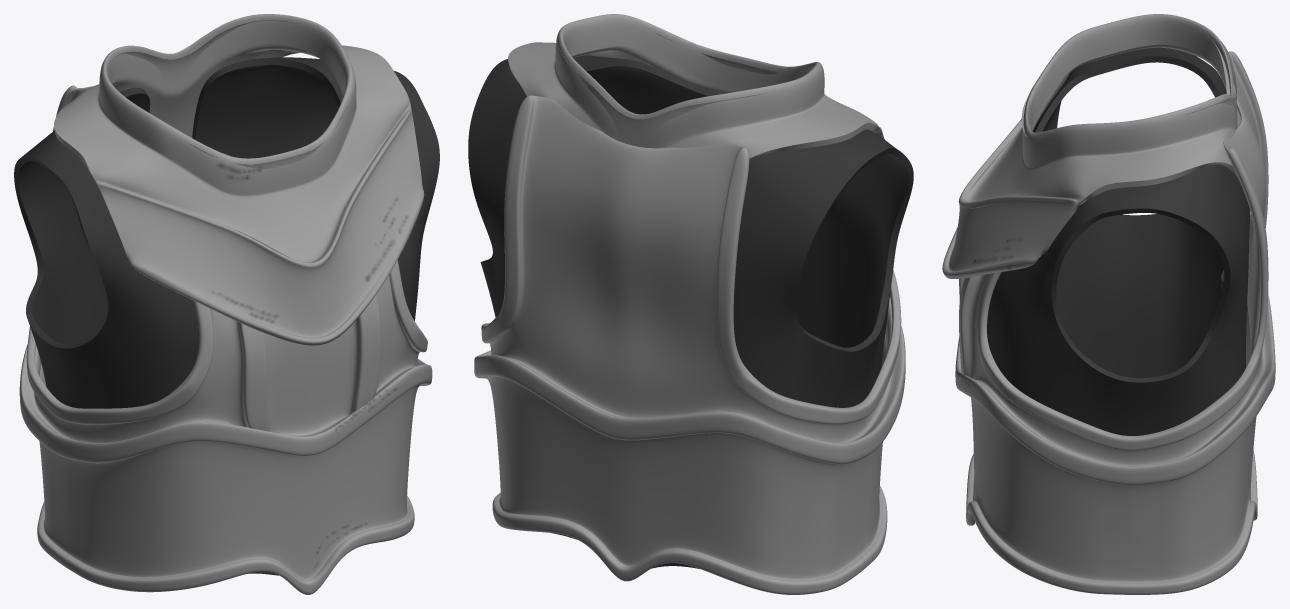
File: ChestPlate.fbx
3 views of the same model, side by side, from view 1: azimuth 30°, elevation 25°; view 2: azimuth 150°, elevation 25°; view 3: azimuth 270°, elevation 25° (orthographic). The views are drawn at different scales.
Visible parts, largest first — view 1: Cube.015; view 2: Cube.015; view 3: Cube.015.
Part boxes in pixels (box(x1,y1,x2,y2)): Cube.015: box(14, 14, 439, 594); Cube.015: box(468, 14, 913, 594); Cube.015: box(942, 14, 1275, 594).
Bounding box in the file's own units: 237 × 298 × 195.
Materials: 2 (1 with a texture image).
